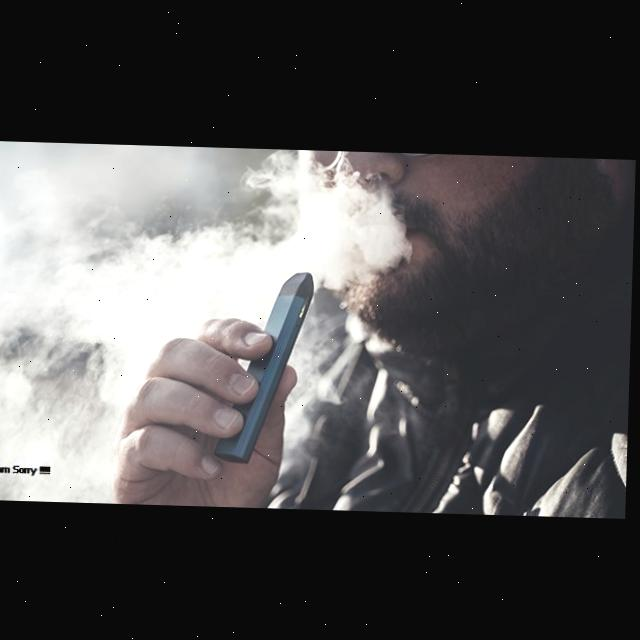vape: (219, 268, 316, 463)
